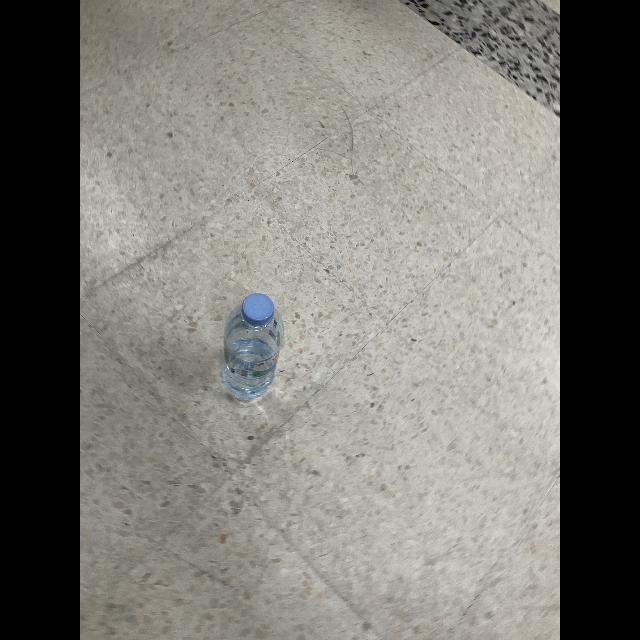plastic_bottle: (220, 292, 282, 402)
